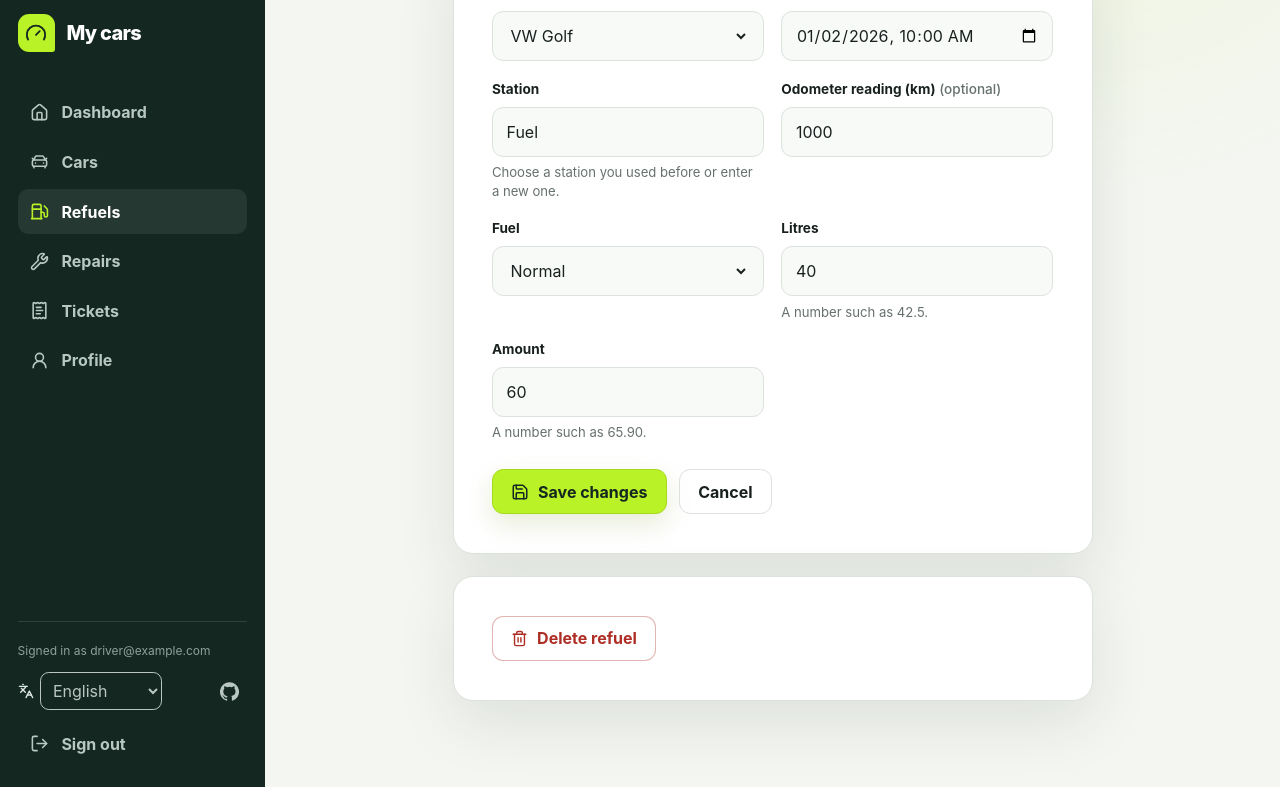
refuels › deletes a refuel only after confirmation
(page scrolled)
What coordinates should you click on to do the following:
click the button "Delete refuel"
I would click on:
 (574, 638)
Its box is [492, 616, 656, 661].
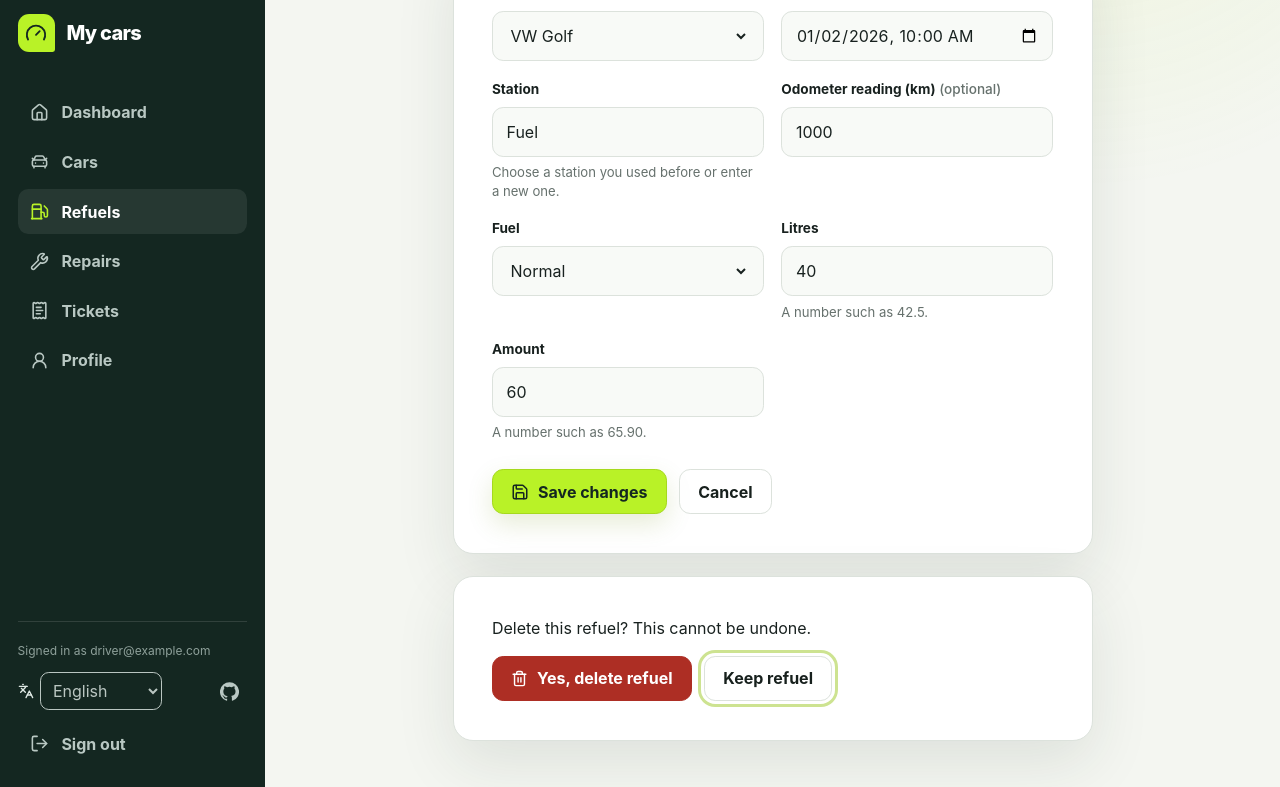
What coordinates should you click on to do the following:
click the button "Yes, delete refuel"
I would click on:
 (592, 678)
Its box is [492, 656, 692, 701].
(page scrolled)
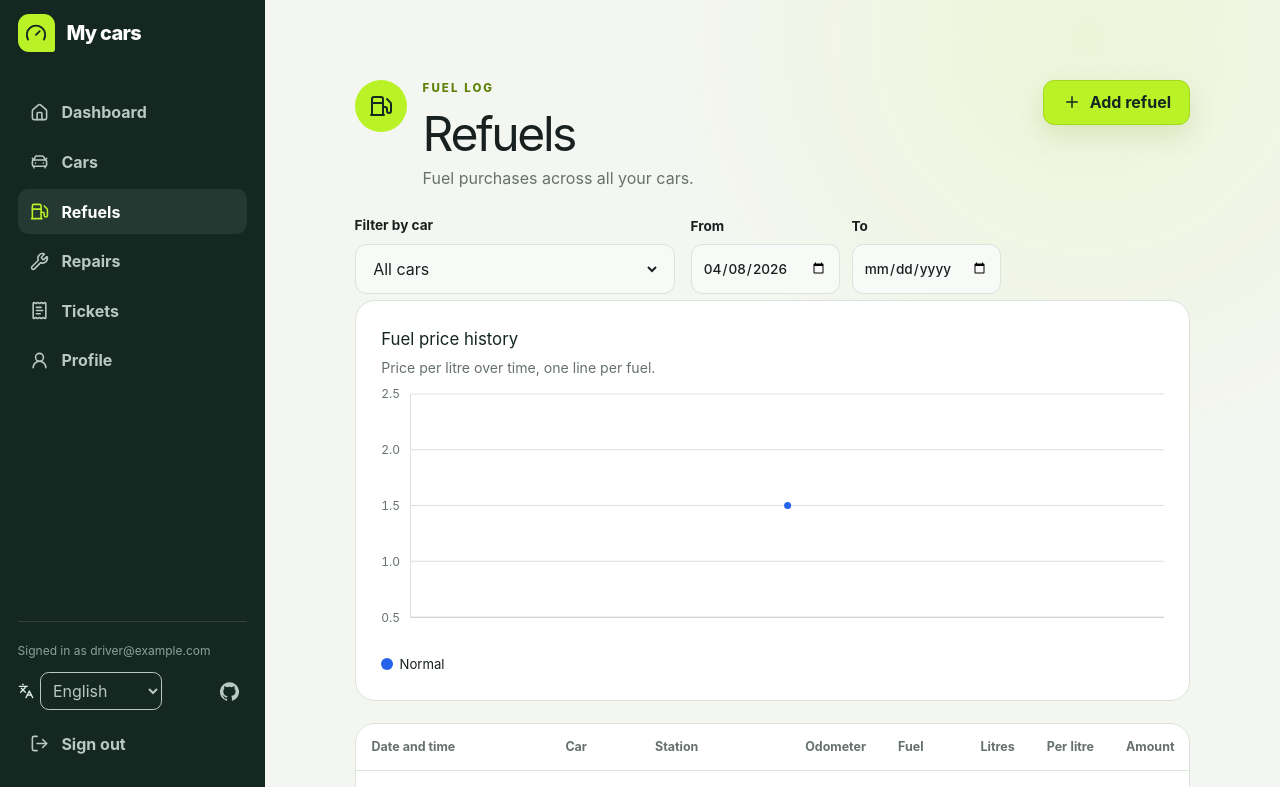
expect the heading "Refuels" is shown: met, box [423, 104, 575, 163]
